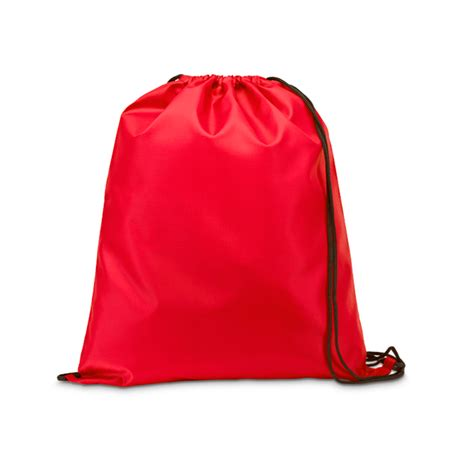nylon: (57, 73, 400, 388)
